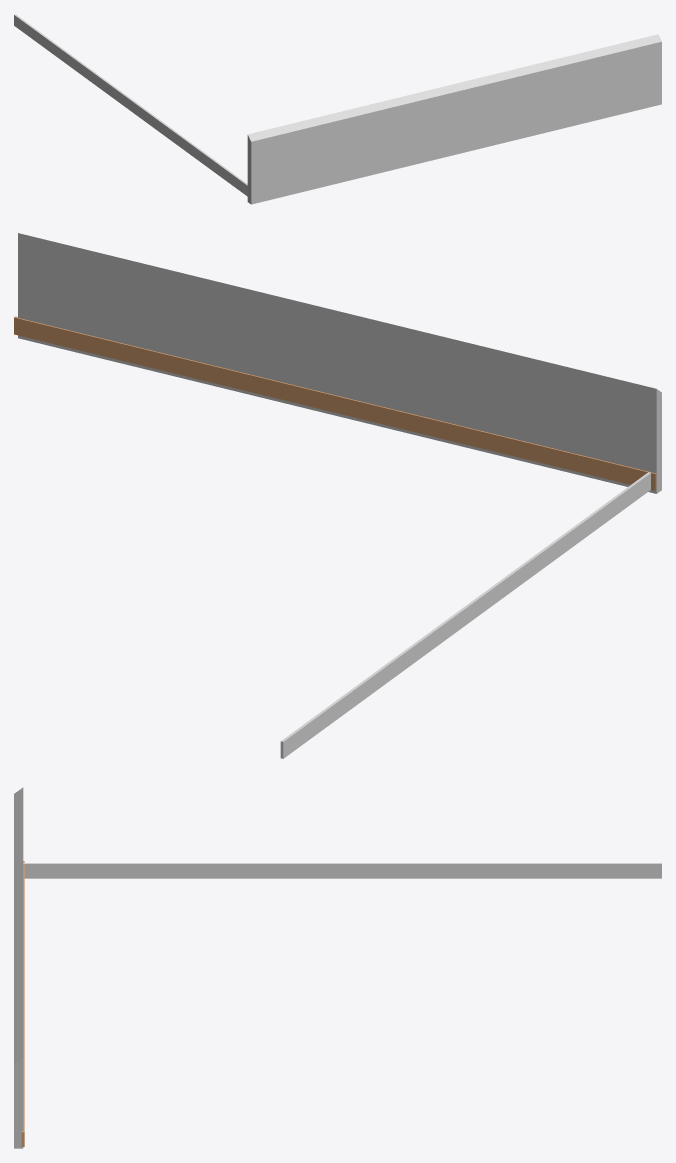
Rendered from pared2.fbx.
3 views of the same model, one above another, from view 1: azimuth 30°, elevation 25°; view 2: azimuth 150°, elevation 25°; view 3: azimuth 270°, elevation 25° (orthographic). The views are drawn at different scales.
Parts seen in each view (by area): view 1: Cube.002; view 2: Cube.002; view 3: Cube.002.
Boxes of the visible parts, <box> form: Cube.002: <box>14,14,661,204</box>; Cube.002: <box>14,233,661,758</box>; Cube.002: <box>14,787,661,1148</box>.
Bounding box in the file's own units: 2222 × 348 × 2240.
